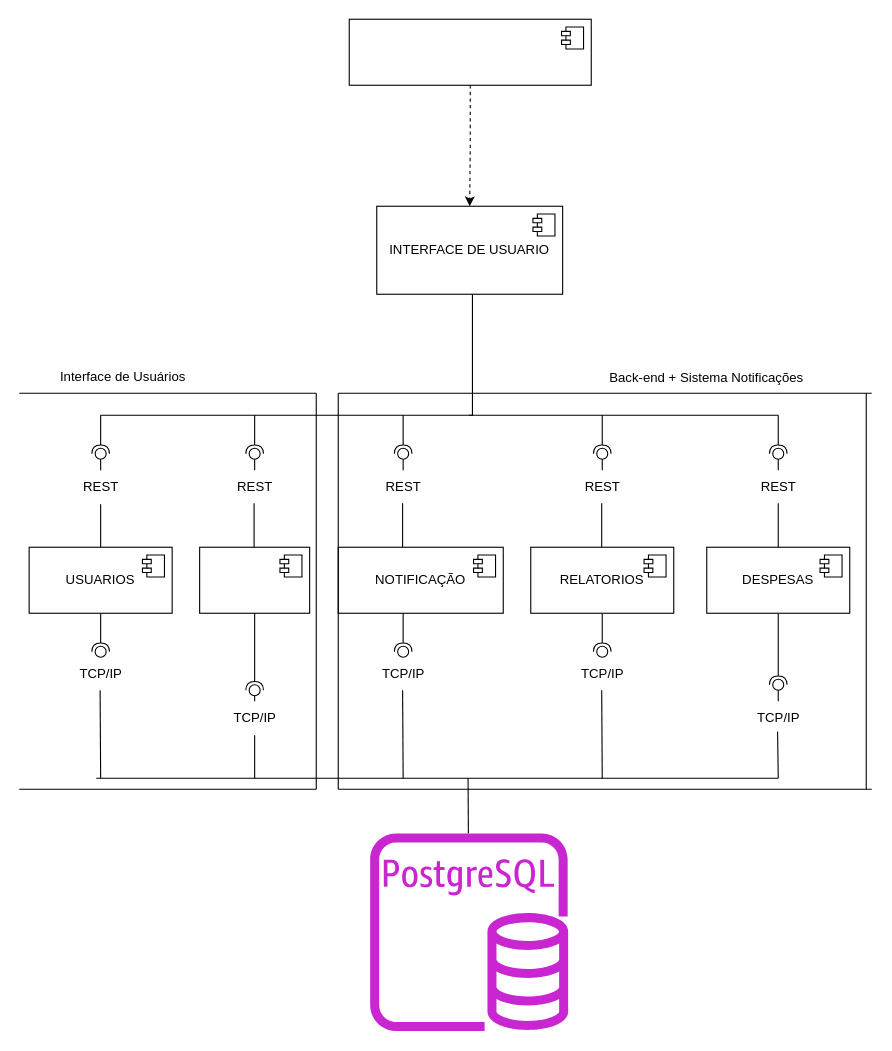
The diagram is 892 pixels wide and 1051 high, and some of its shapes have lost their labels. The shapes that lost their labels are listed below. From the top down, each one's centre as x and y in pixels, then its label:
the point at 469,51: SERVIDOR DE APLICAÇÃO
the point at 254,579: ADMIN
